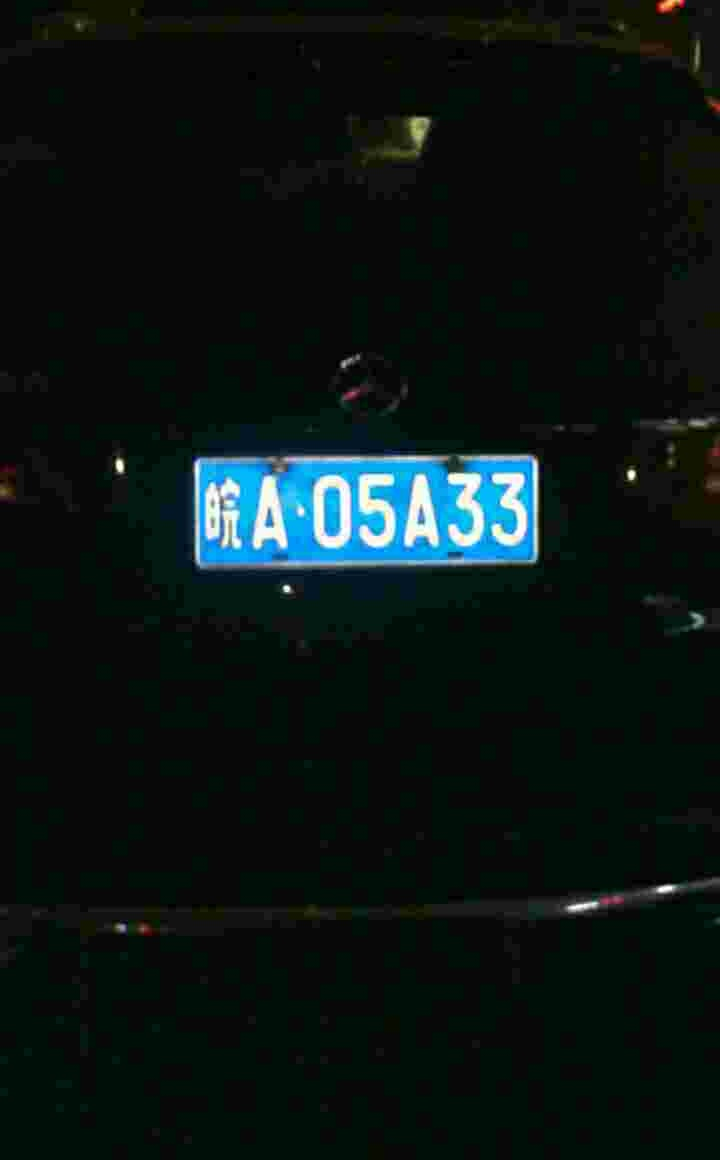license_plate: (198, 456, 543, 549)
